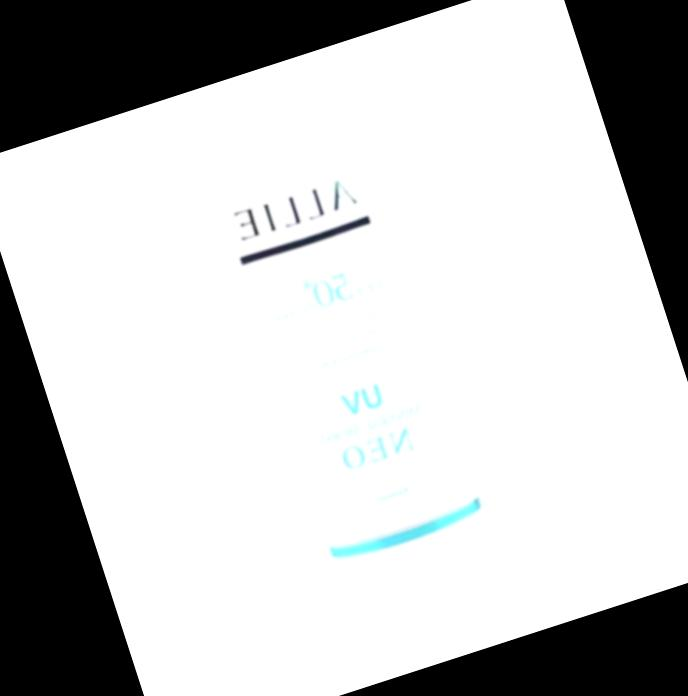cosmetic: (161, 68, 541, 657)
